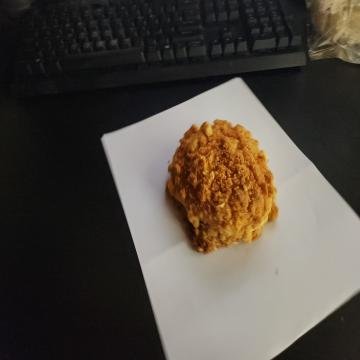soboru_bread: (168, 120, 284, 256)
